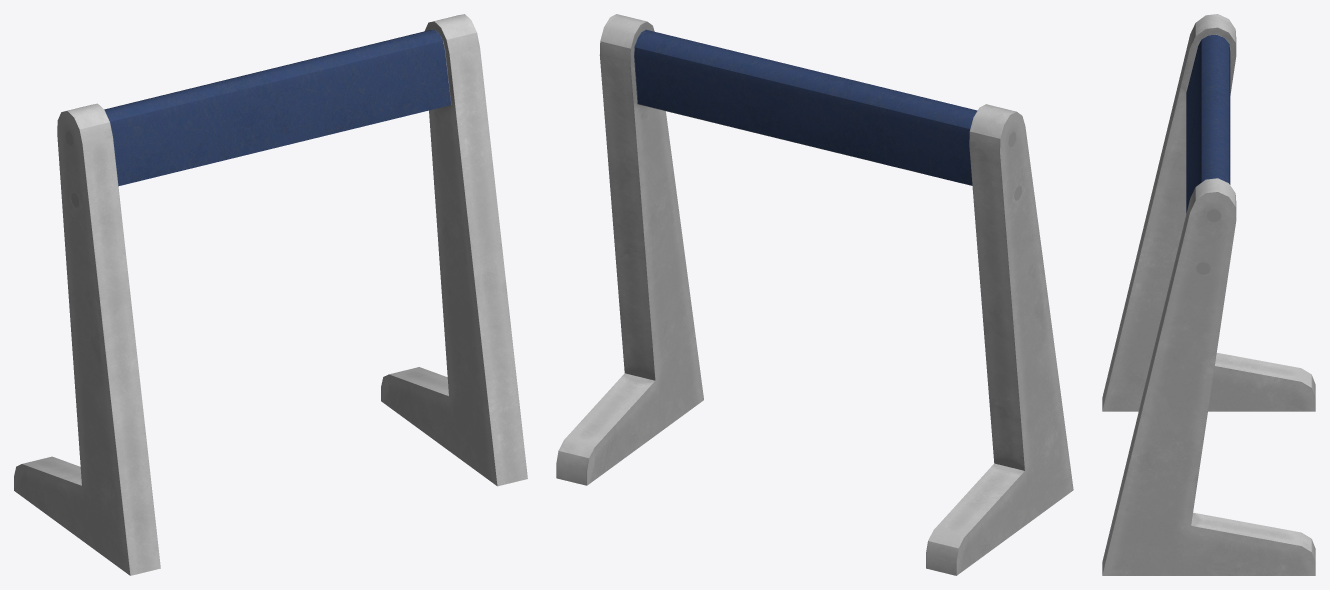
File: YYQ_JiaZi.fbx
3 views of the same model, side by side, from view 1: azimuth 30°, elevation 25°; view 2: azimuth 150°, elevation 25°; view 3: azimuth 270°, elevation 25° (orthographic). The views are drawn at different scales.
Parts seen in each view (by area): view 1: SYS_WSW_YYQ_JiaZi; view 2: SYS_WSW_YYQ_JiaZi; view 3: SYS_WSW_YYQ_JiaZi.
Part boxes in pixels (<box>): SYS_WSW_YYQ_JiaZi: <box>14,14,527,575</box>; SYS_WSW_YYQ_JiaZi: <box>556,14,1073,575</box>; SYS_WSW_YYQ_JiaZi: <box>1102,14,1315,575</box>.
Bounding box in the file's own units: 22.39 × 22.54 × 11.35.
Materials: 1 (1 with a texture image).
